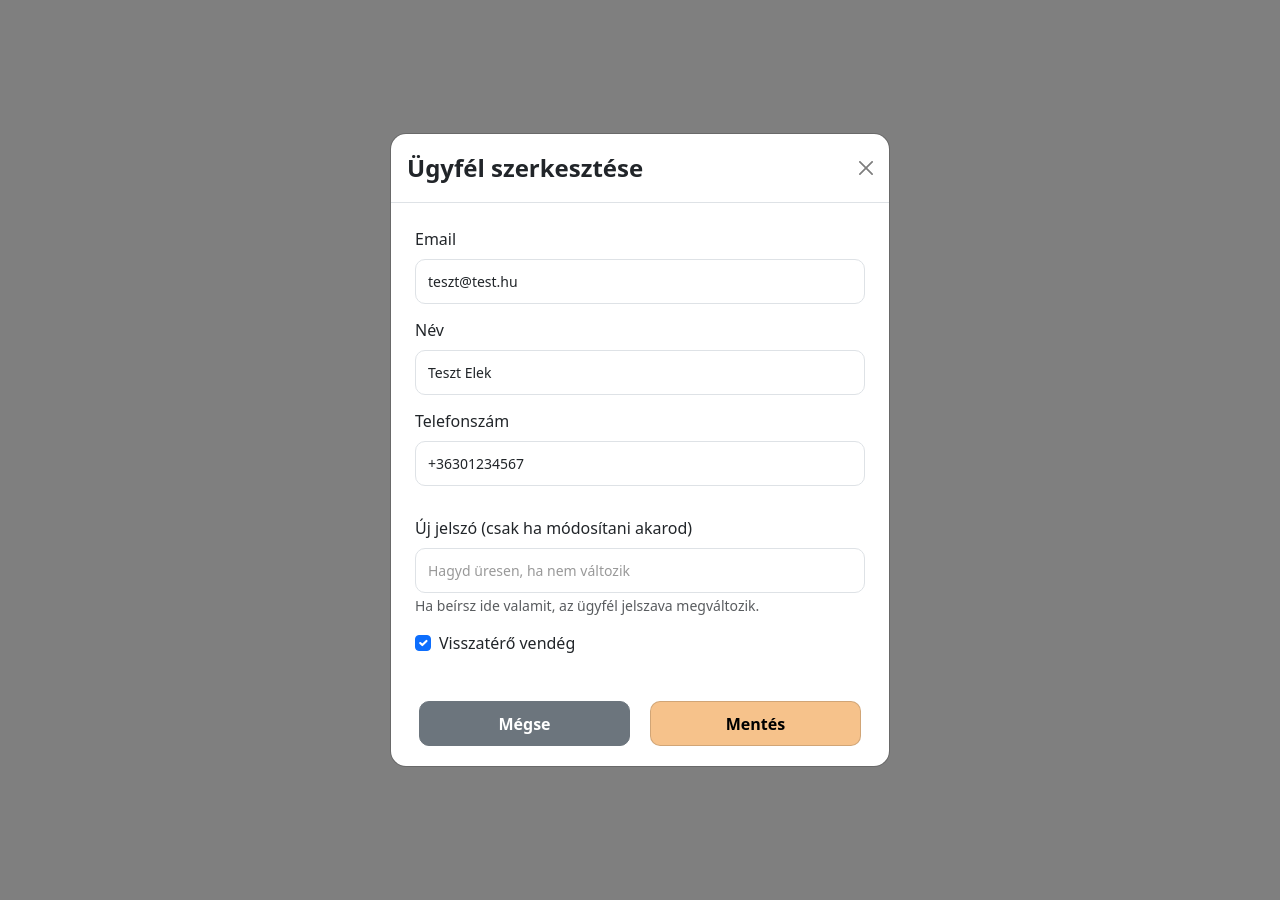
Test case: EditCustomerModal › hiba eset toast jelenik meg
The image size is (1280, 900).
Click the button "Mentés" at (756, 724), box [650, 701, 861, 746]
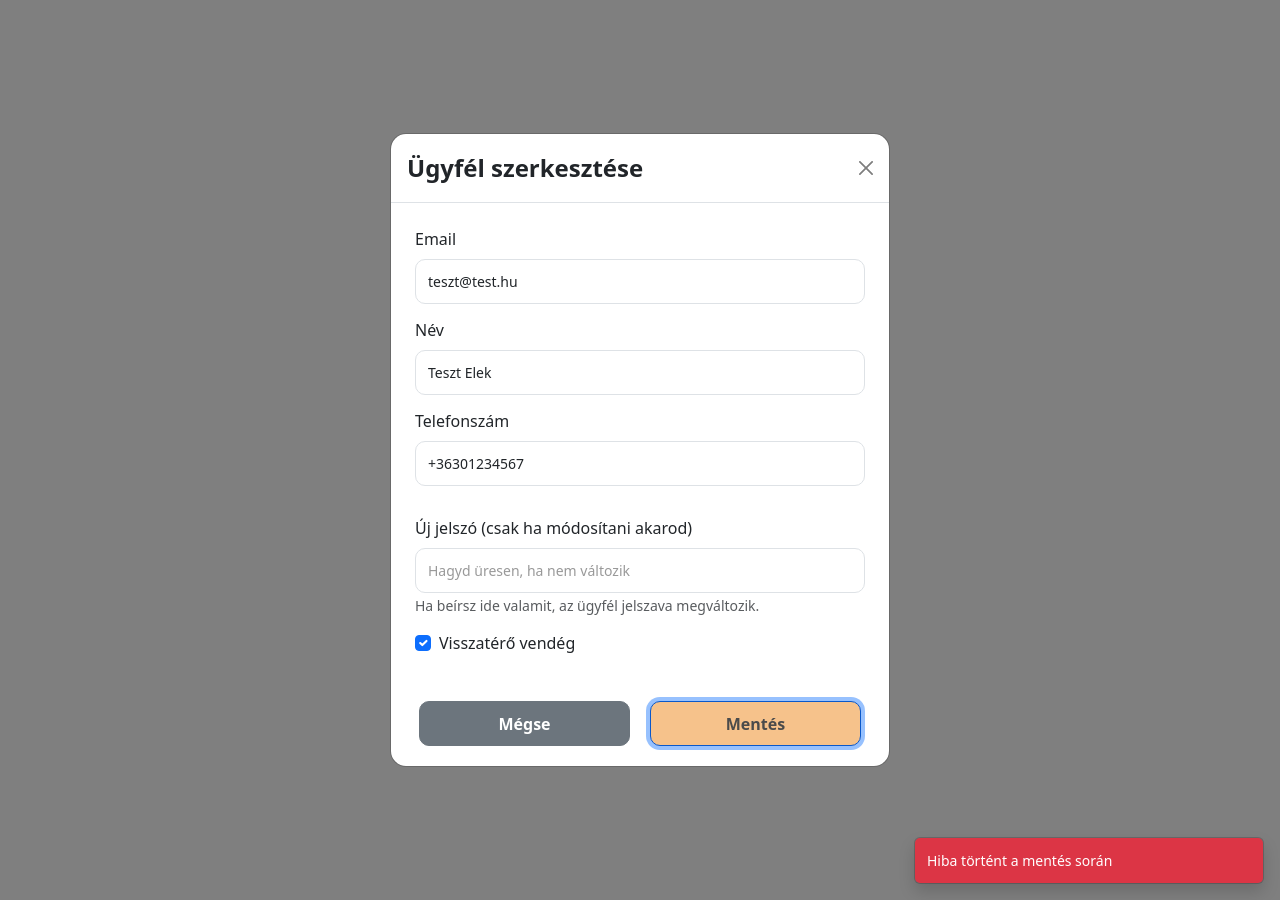
Check: the text "Hiba történt a mentés során" is shown, box [927, 851, 1112, 870]
